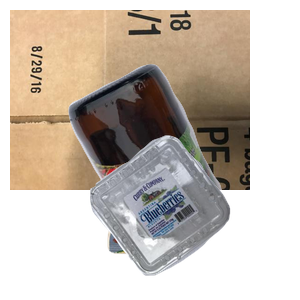cardboard: (10, 10, 250, 190)
glass: (66, 61, 300, 241)
plastic: (88, 133, 300, 300)
trash: (105, 152, 280, 300)
